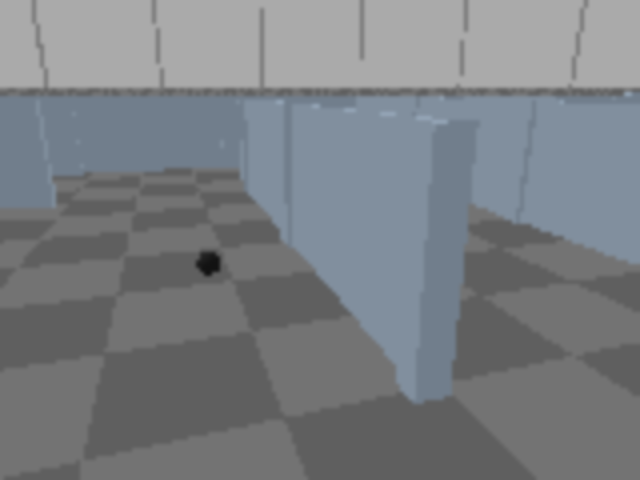puck: (193, 247, 225, 281)
